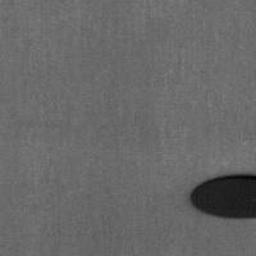Punching: (189, 174, 256, 219)
